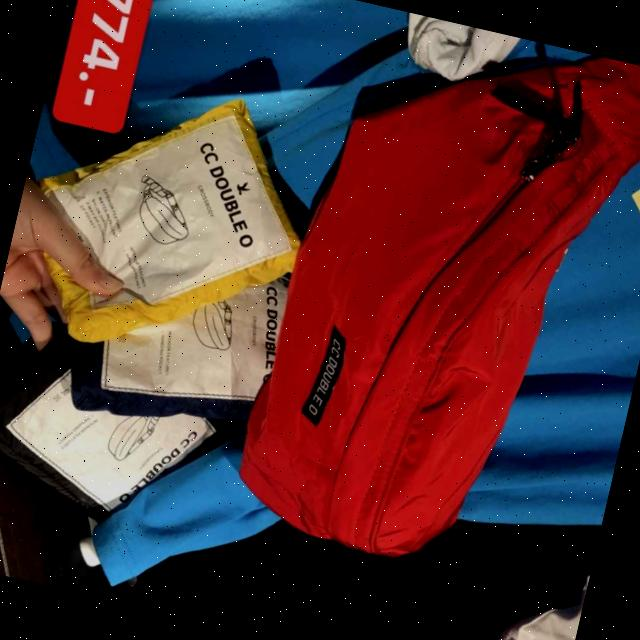handbag: (225, 0, 640, 600)
